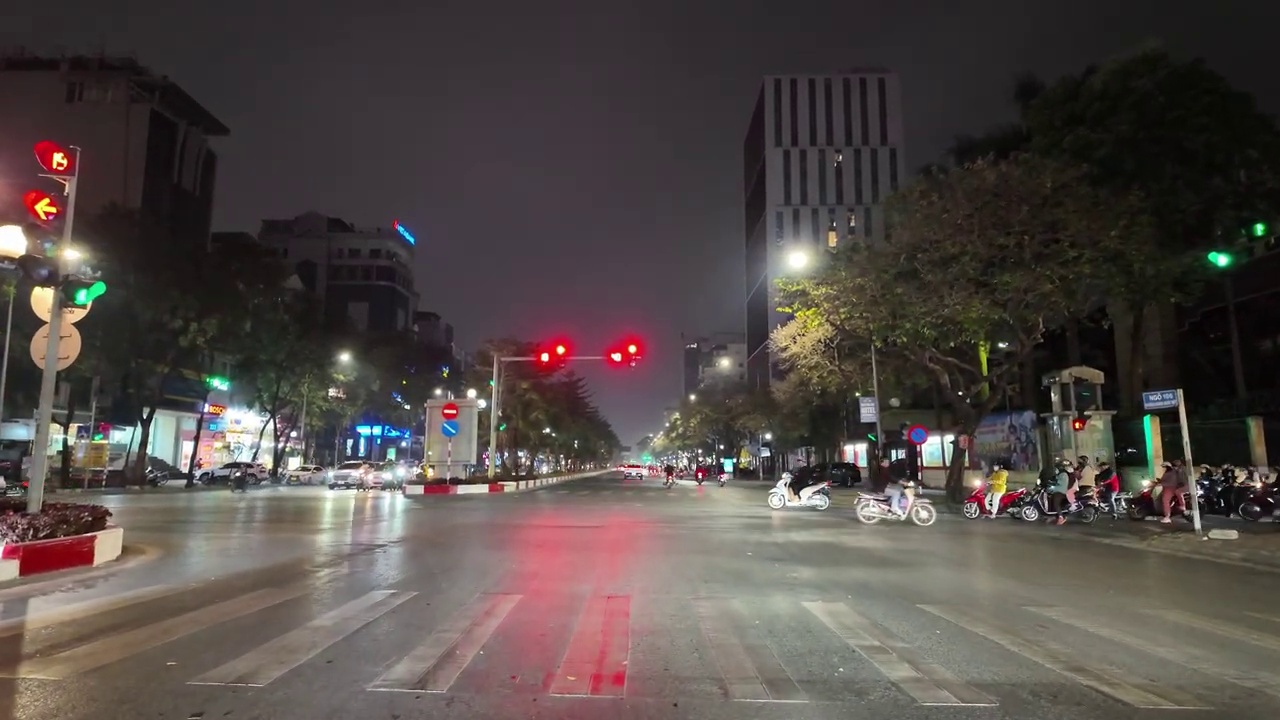acesa: (778, 243, 818, 283), (58, 244, 90, 269), (332, 348, 356, 374), (712, 352, 737, 376)
